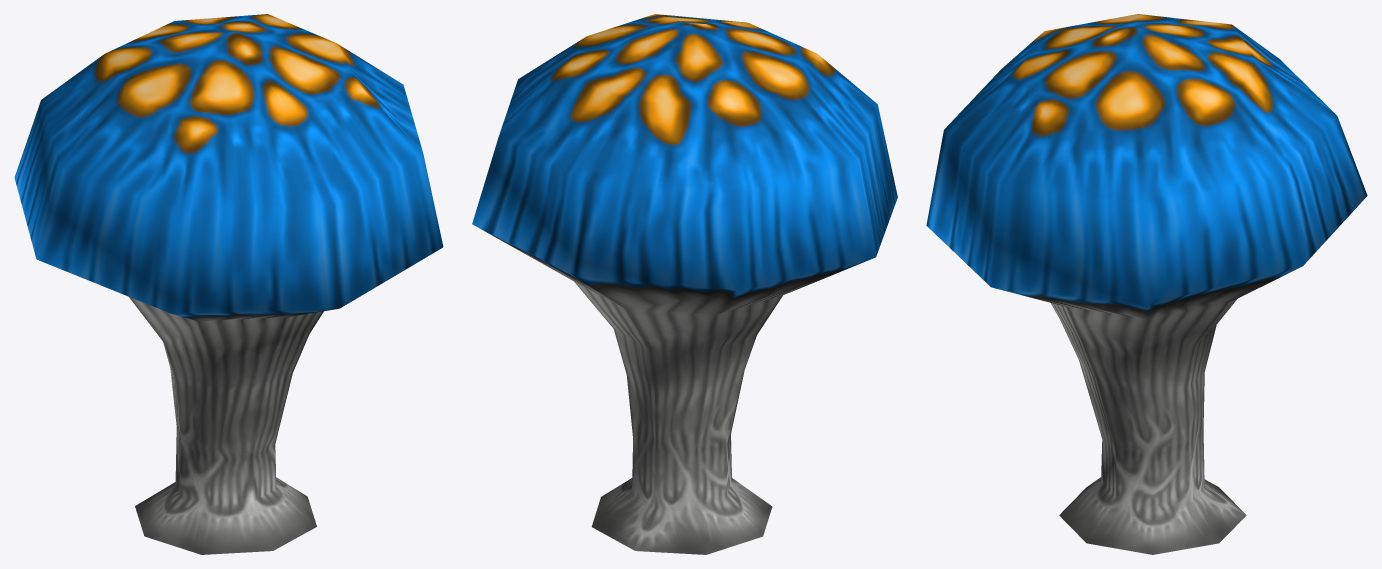
Rendered from Mushroom_001e.fbx.
The picture shows the model from 3 angles, left to right: view 1: azimuth 30°, elevation 25°; view 2: azimuth 150°, elevation 25°; view 3: azimuth 270°, elevation 25°; orthographic projection.
Visible parts, largest first — view 1: Mesh; view 2: Mesh; view 3: Mesh.
Part boxes in pixels (x1=…): Mesh: x1=14, y1=14, x2=443, y2=554; Mesh: x1=472, y1=14, x2=897, y2=554; Mesh: x1=926, y1=14, x2=1367, y2=554.
Bounding box in the file's own units: 97.41 × 118 × 97.14.
